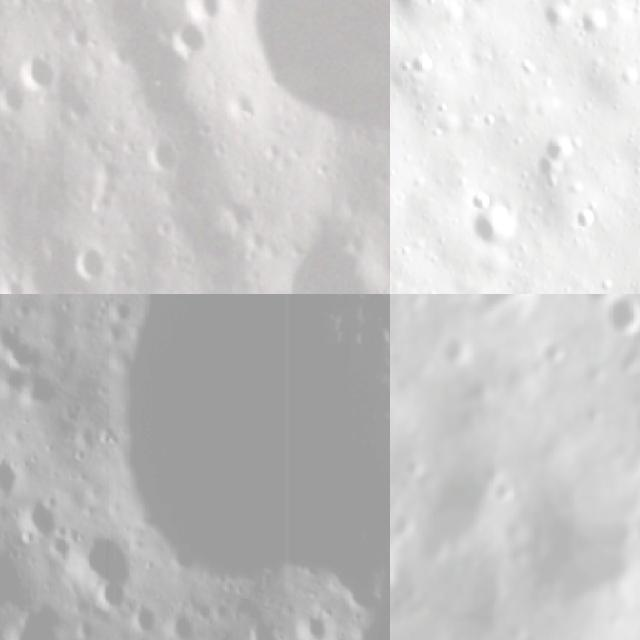crater: (116, 294, 390, 563), (229, 0, 390, 152), (521, 484, 640, 606), (257, 205, 379, 294), (64, 526, 130, 588), (6, 237, 73, 294), (138, 128, 196, 181), (469, 208, 524, 260), (10, 494, 60, 548), (9, 45, 58, 90), (169, 12, 211, 64), (62, 237, 106, 286), (601, 294, 640, 343), (62, 84, 102, 126), (164, 604, 209, 640), (576, 3, 616, 42), (537, 330, 576, 368), (293, 602, 331, 640), (0, 73, 32, 115), (124, 597, 160, 634), (533, 0, 565, 35), (405, 51, 440, 82), (0, 447, 18, 498), (244, 622, 281, 640), (573, 204, 597, 231)
